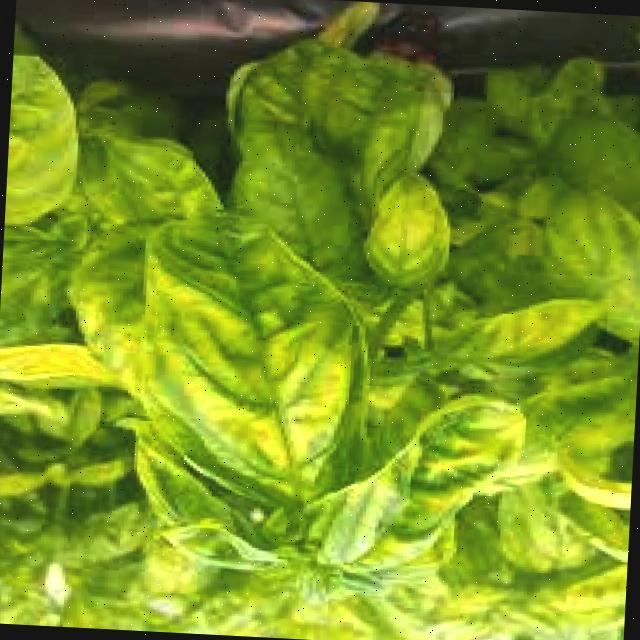yellow: (0, 97, 640, 636)
